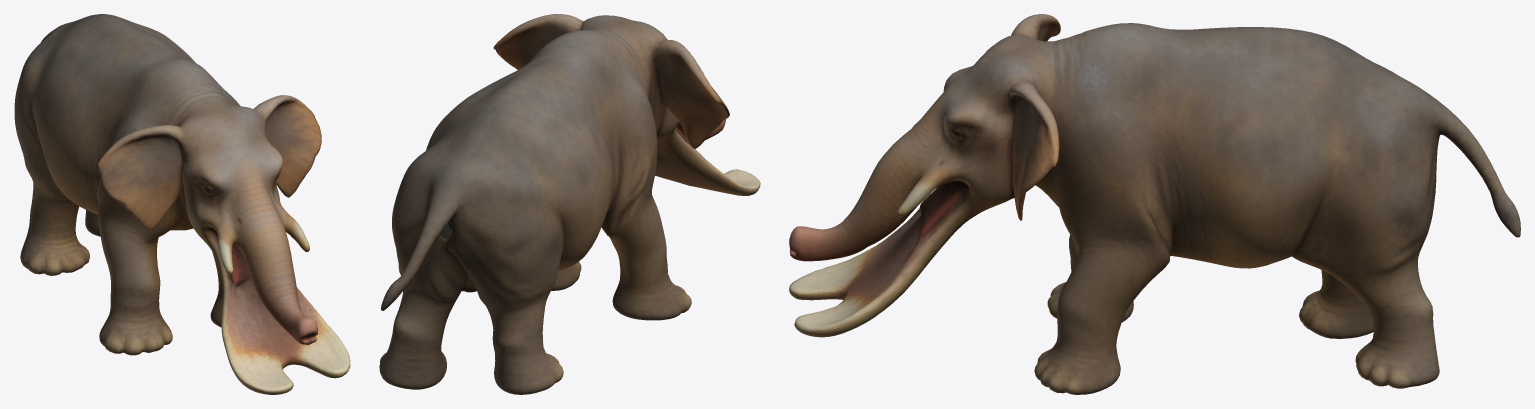
The picture shows the model from 3 angles, left to right: view 1: azimuth 30°, elevation 25°; view 2: azimuth 150°, elevation 25°; view 3: azimuth 270°, elevation 25°; orthographic projection. The views are drawn at different scales.
Parts seen in each view (by area): view 1: world; view 2: world; view 3: world.
Part boxes in pixels (box(x1,y1,x2,y2)): world: box(14, 14, 350, 394); world: box(379, 14, 760, 394); world: box(789, 14, 1520, 394).
Size of the model in its own units: 1.85 by 2.09 by 4.3.
1 material, 1 textured.
